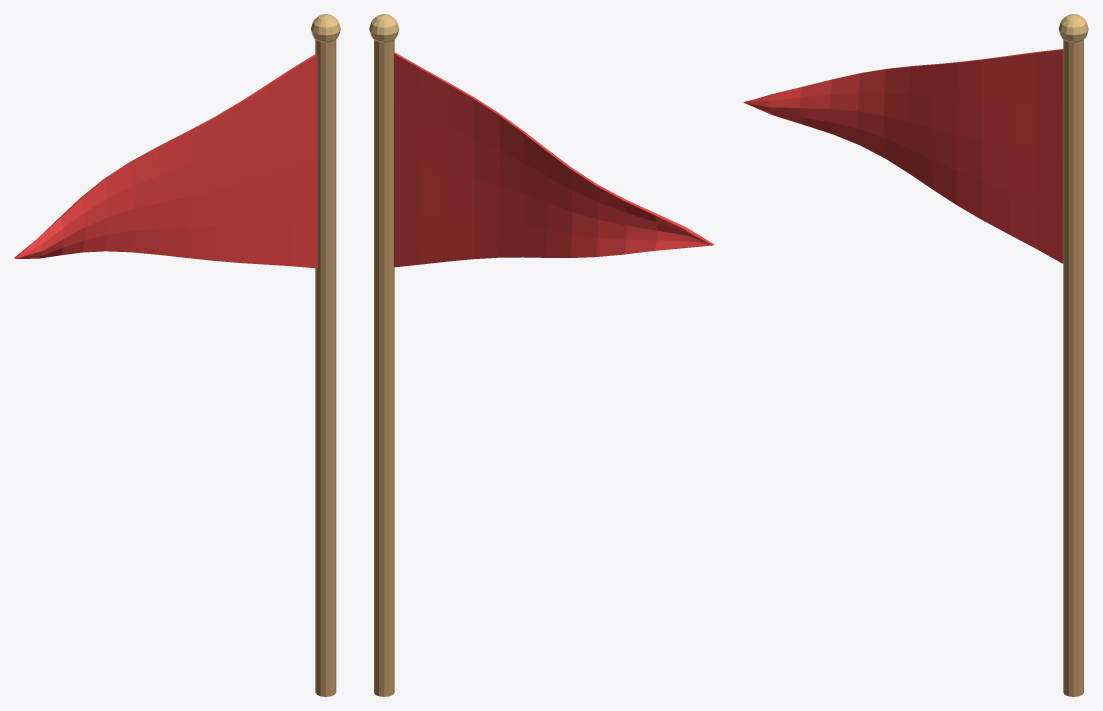
Rendered from guide_flag.glb.
The picture shows the model from 3 angles, left to right: view 1: azimuth 30°, elevation 25°; view 2: azimuth 150°, elevation 25°; view 3: azimuth 330°, elevation 25°; orthographic projection.
Parts seen in each view (by area): view 1: FlagMesh; view 2: FlagMesh; view 3: FlagMesh.
Boxes of the visible parts, x1,y1,x2,y2 form: FlagMesh: (14,14,340,696); FlagMesh: (369,14,714,696); FlagMesh: (743,14,1088,696).
Bounding box in the file's own units: 0.2042 × 0.396 × 0.0197.
